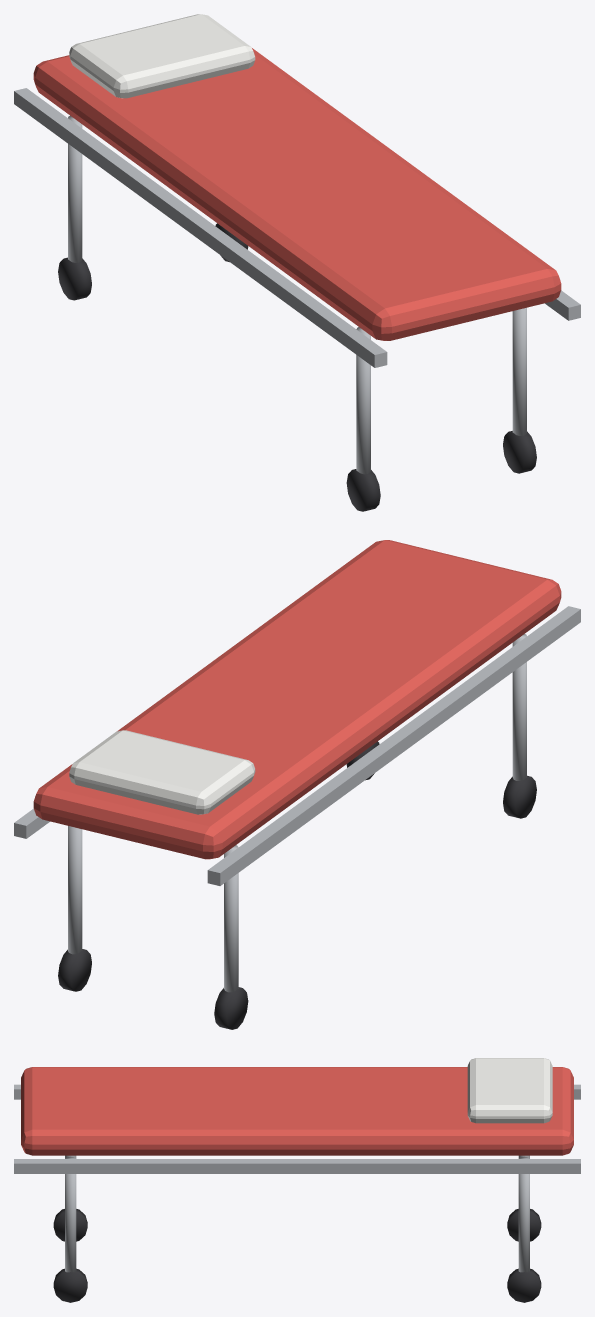
File: Stretcher.fbx
3 renders of one model, top to bottom at view 1: azimuth 30°, elevation 25°; view 2: azimuth 150°, elevation 25°; view 3: azimuth 270°, elevation 25°, orthographic. The views are drawn at different scales.
Visible parts, largest first — view 1: Stretcher_Mattress, Stretcher_Pillow, Stretcher_FrameL, Stretcher_Leg.001, Stretcher_Leg, Stretcher_Leg.002, Stretcher_Castor, Stretcher_Castor.002, Stretcher_Castor.001; view 2: Stretcher_Mattress, Stretcher_Pillow, Stretcher_FrameL, Stretcher_Leg.003, Stretcher_Leg.002, Stretcher_Leg, Stretcher_Castor.002, Stretcher_Castor, Stretcher_Castor.003; view 3: Stretcher_Mattress, Stretcher_FrameR, Stretcher_Pillow, Stretcher_Leg.001, Stretcher_Leg.003, Stretcher_Castor.001, Stretcher_Castor.003, Stretcher_Castor, Stretcher_Castor.002.
Part boxes in pixels (<box>): Stretcher_Mattress: <box>33,48,561,340</box>; Stretcher_Pillow: <box>69,14,255,98</box>; Stretcher_FrameL: <box>14,88,387,367</box>; Stretcher_Leg.001: <box>512,307,526,435</box>; Stretcher_Leg: <box>356,327,370,474</box>; Stretcher_Leg.002: <box>68,115,82,262</box>; Stretcher_Castor: <box>346,469,380,511</box>; Stretcher_Castor.002: <box>58,257,91,300</box>; Stretcher_Castor.001: <box>503,431,536,473</box>; Stretcher_Mattress: <box>33,540,561,859</box>; Stretcher_Pillow: <box>69,730,255,814</box>; Stretcher_FrameL: <box>207,606,580,885</box>; Stretcher_Leg.003: <box>68,826,82,954</box>; Stretcher_Leg.002: <box>224,845,238,992</box>; Stretcher_Leg: <box>512,634,526,780</box>; Stretcher_Castor.002: <box>214,987,248,1029</box>; Stretcher_Castor: <box>503,775,536,818</box>; Stretcher_Castor.003: <box>58,949,91,991</box>; Stretcher_Mattress: <box>21,1067,573,1155</box>; Stretcher_FrameR: <box>14,1159,580,1173</box>; Stretcher_Pillow: <box>467,1058,552,1123</box>; Stretcher_Leg.001: <box>65,1157,76,1272</box>; Stretcher_Leg.003: <box>518,1157,529,1272</box>; Stretcher_Castor.001: <box>53,1268,87,1302</box>; Stretcher_Castor.003: <box>507,1268,541,1302</box>; Stretcher_Castor: <box>53,1209,87,1241</box>; Stretcher_Castor.002: <box>507,1209,541,1241</box>.
Bounding box in the file's own units: 0.66 × 0.735 × 2.
